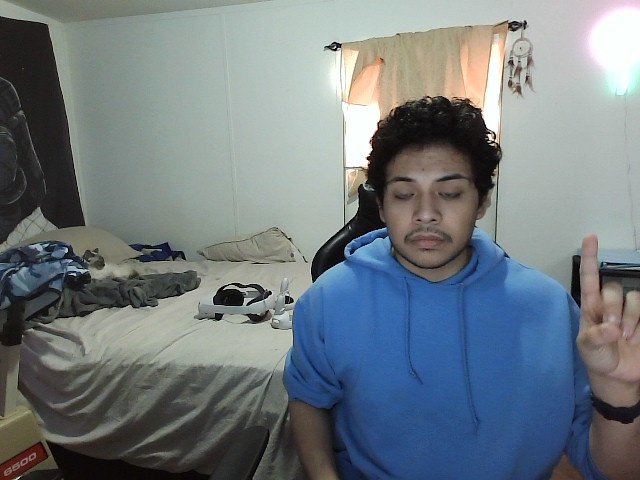D: (568, 229, 640, 385)
